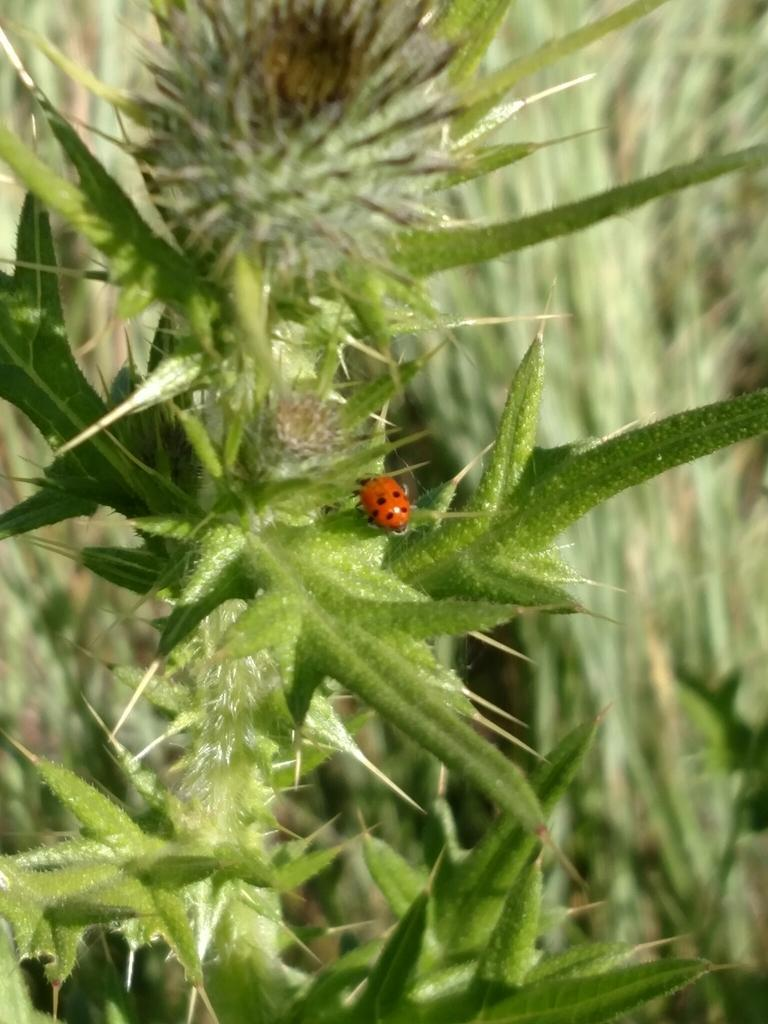ladybug: (351, 472, 415, 536)
